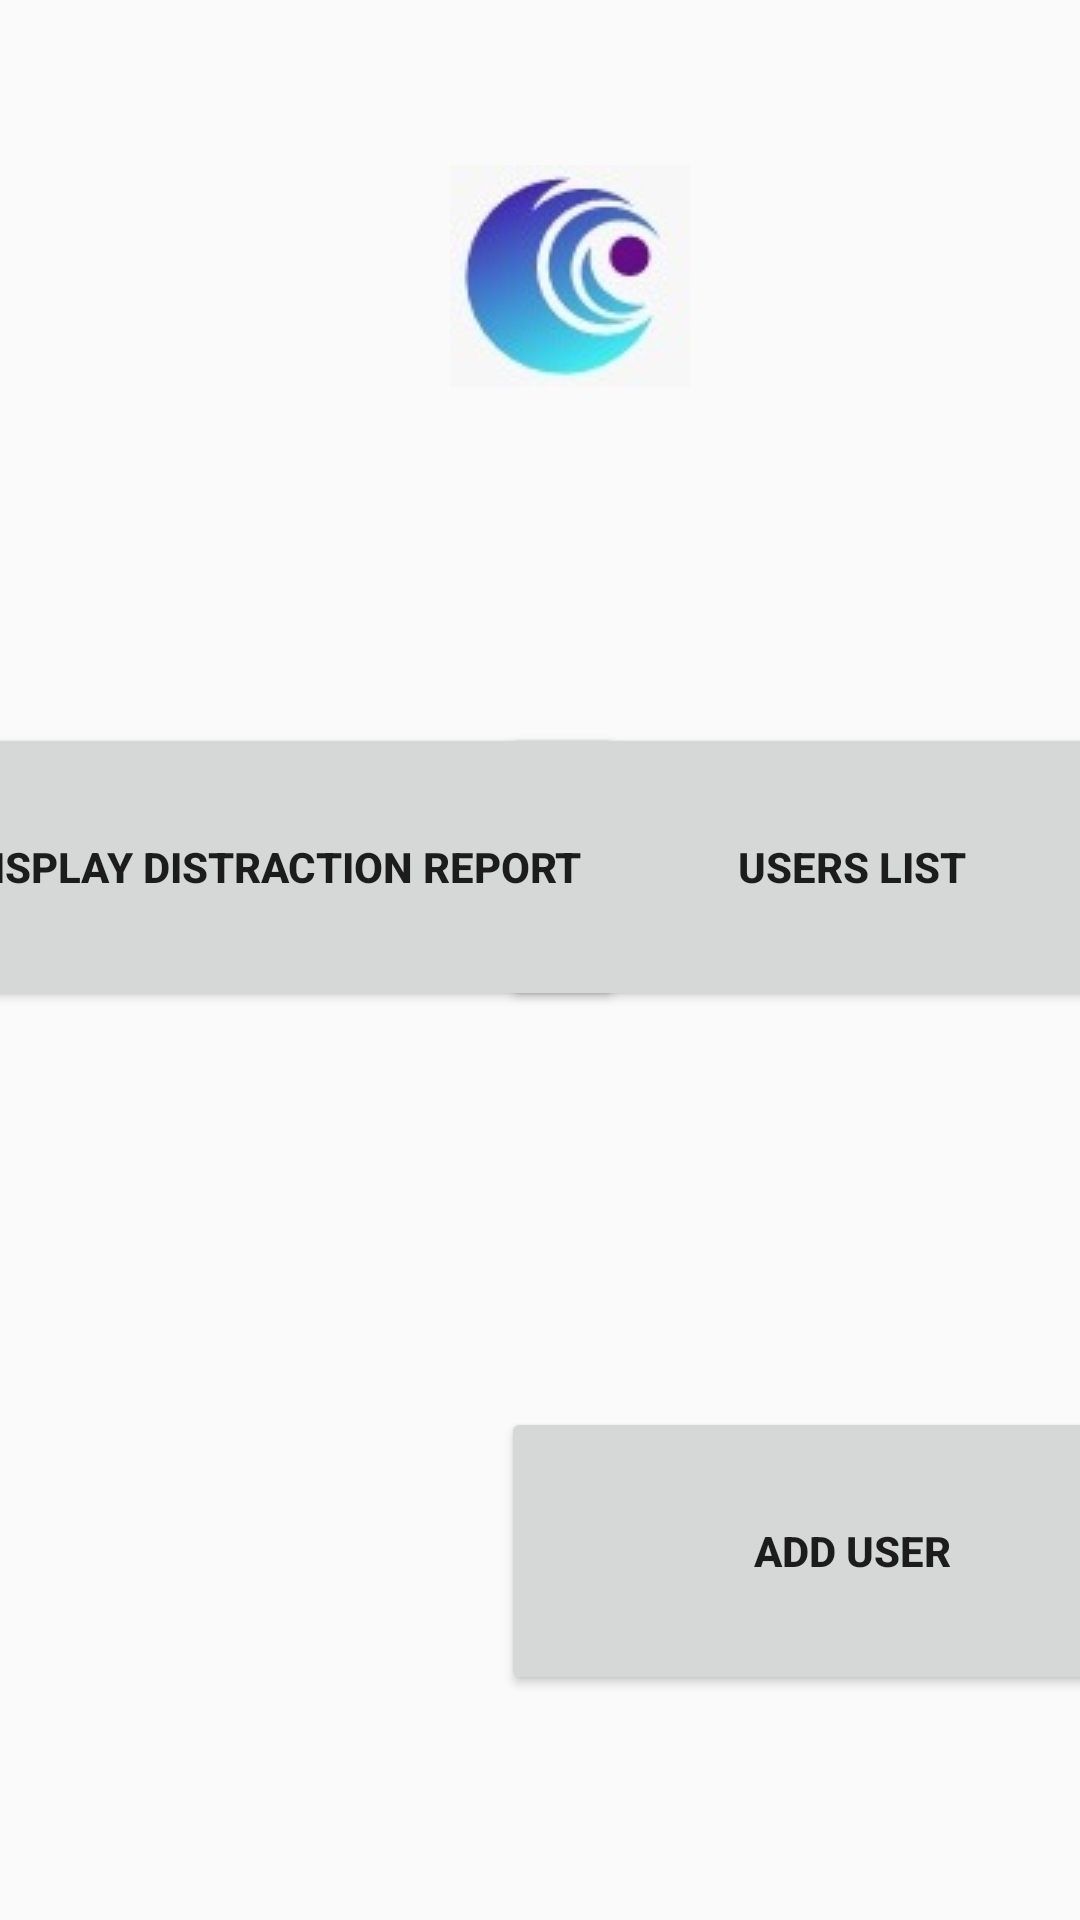

Named icons in this screenshot (1080x1920) and their centers, (x,y):
appicon: (561,277)
